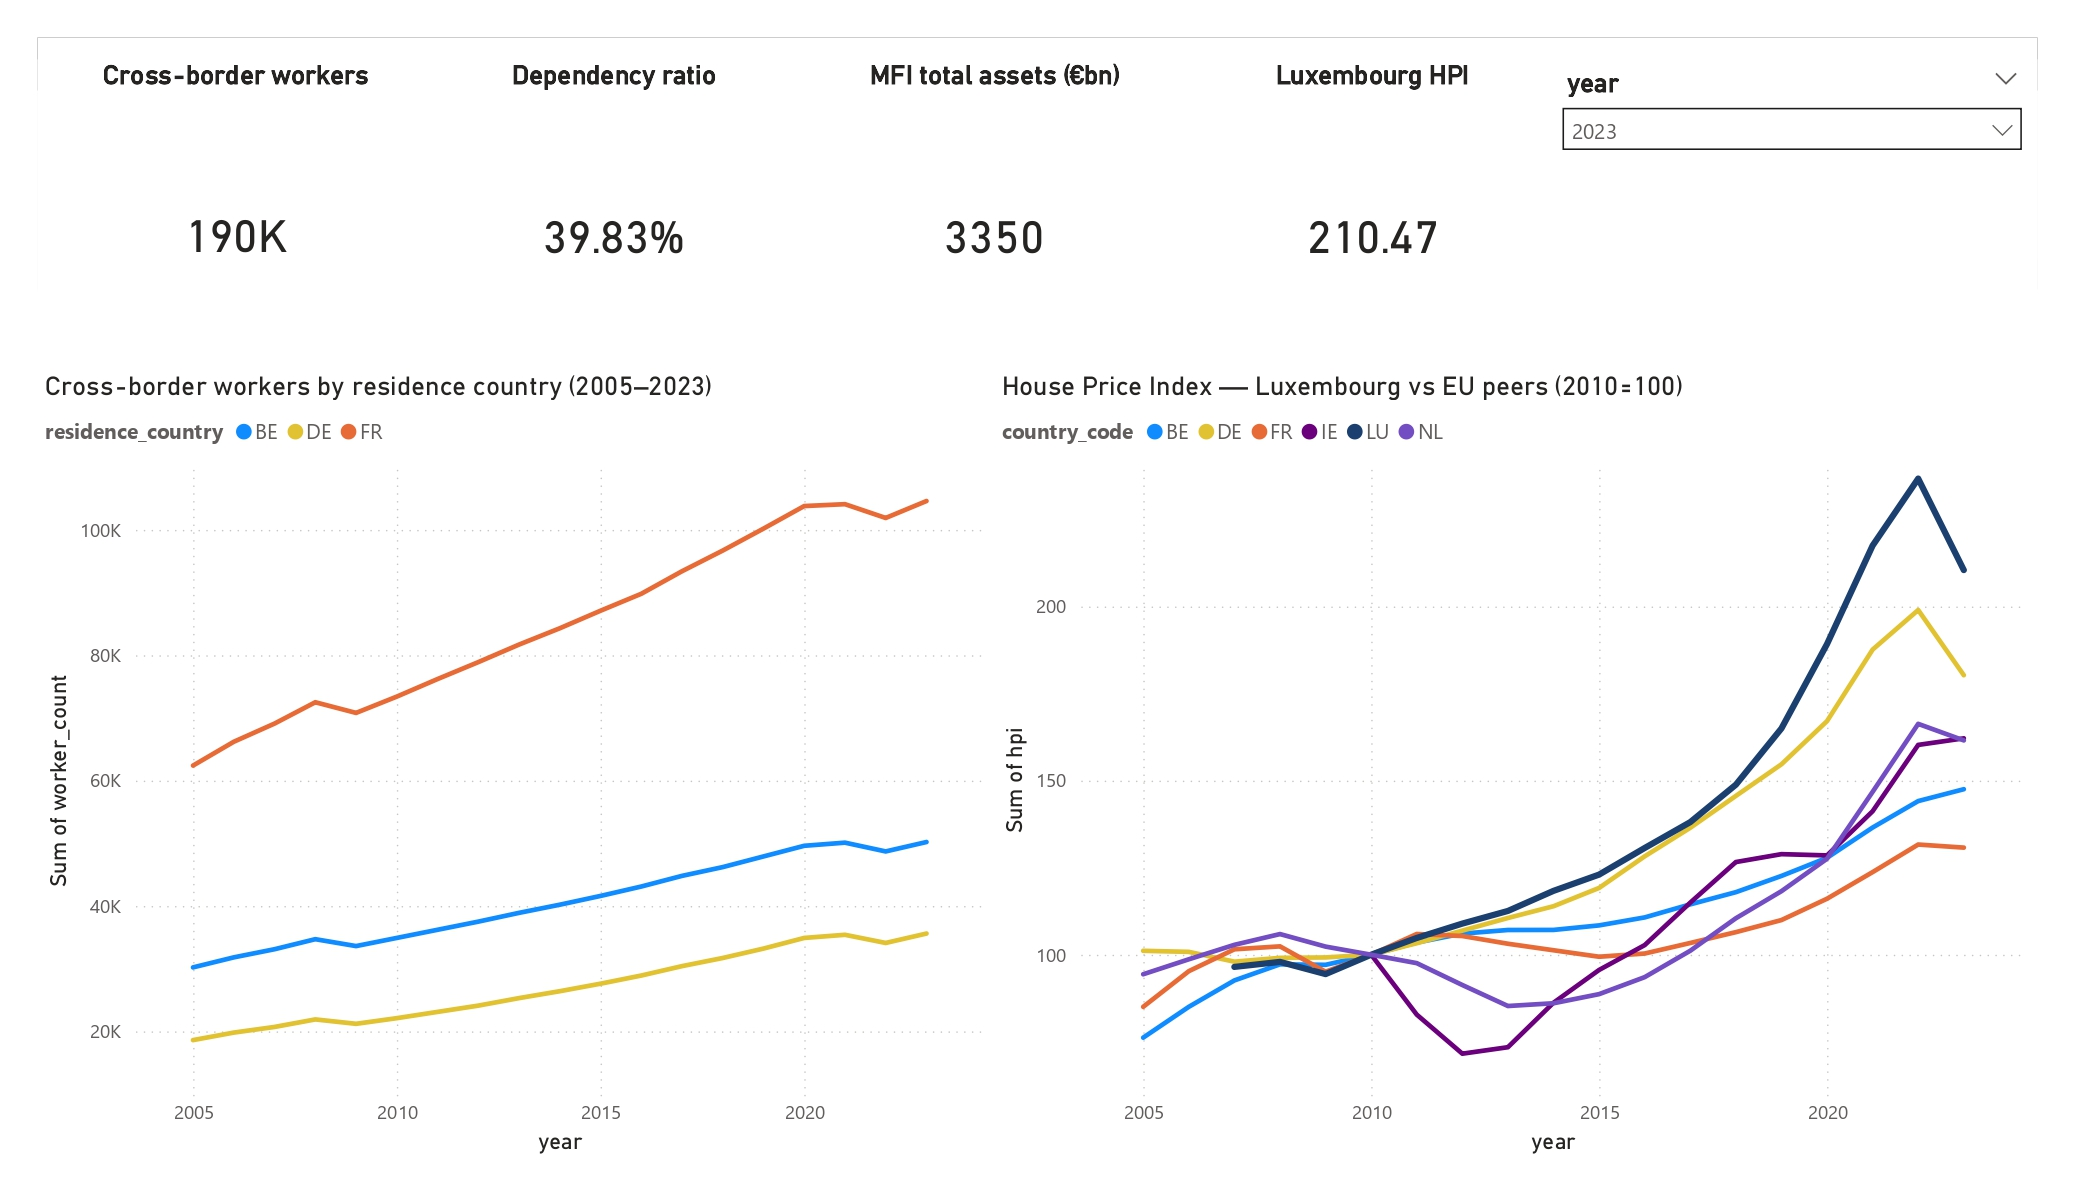

This screenshot's page, from the dashboard's own definition file:
{"tool":"powerbi","page":{"name":"Executive Overview","canvas":[1280,720],"ordinal":0},"visuals":[{"type":"card","title":"Cross-border workers","fields":{"Values":["crossborder_workers.TotalCrossBorder"]},"box":[0,14.4,254.4,203.1],"z":0},{"type":"card","title":"Dependency ratio","fields":{"Values":["crossborder_workers.DependencyRatio"]},"box":[254.4,14.4,229.7,205.1],"z":1000},{"type":"card","title":"MFI total assets (€bn)","fields":{"Values":["banking_sector.LatestMFIAssets"]},"box":[484.1,14.4,256.4,205.1],"z":2000},{"type":"card","title":"Luxembourg HPI","fields":{"Values":["housing.LU_HPI"]},"box":[742.6,14.4,223.6,205.1],"z":3000},{"type":"lineChart","title":"Cross-border workers by residence country (2005–2023)","fields":{"Category":["YearTable.year"],"Y":["Sum(crossborder_workers.worker_count)"],"Series":["crossborder_workers.residence_country"]},"box":[0,212.8,613.4,507],"z":4000},{"type":"lineChart","title":"House Price Index — Luxembourg vs EU peers (2010=100)","fields":{"Y":["Sum(housing.hpi)"],"Category":["YearTable.year"],"Series":["housing.country_code"]},"box":[611.7,212.8,668.3,507],"z":5000},{"type":"slicer","fields":{"Values":["YearTable.year"]},"box":[966.2,14.4,313.8,127.2],"z":6000}]}

Visuals, with their boxes on the page's 1280x720 design canvas (x1, y1, x2, y2). These are canvas units, not pixel positions in the 2075x1200 screenshot, which may show the page scaled, cropped or inside an application window:
"Cross-border workers" card: 0, 14, 254, 218
"Dependency ratio" card: 254, 14, 484, 220
"MFI total assets (€bn)" card: 484, 14, 740, 220
"Luxembourg HPI" card: 743, 14, 966, 220
"Cross-border workers by residence country (2005–2023)" lineChart: 0, 213, 613, 720
"House Price Index — Luxembourg vs EU peers (2010=100)" lineChart: 612, 213, 1280, 720
slicer - YearTable.year: 966, 14, 1280, 142
